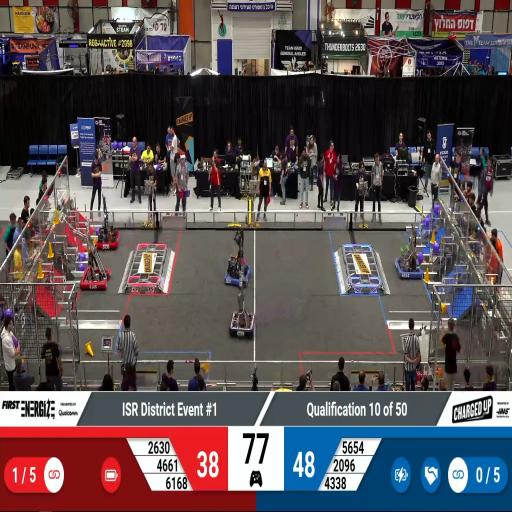robot: (80, 257, 113, 298), (224, 244, 253, 286), (229, 304, 256, 341), (394, 250, 425, 280), (94, 221, 120, 252)
